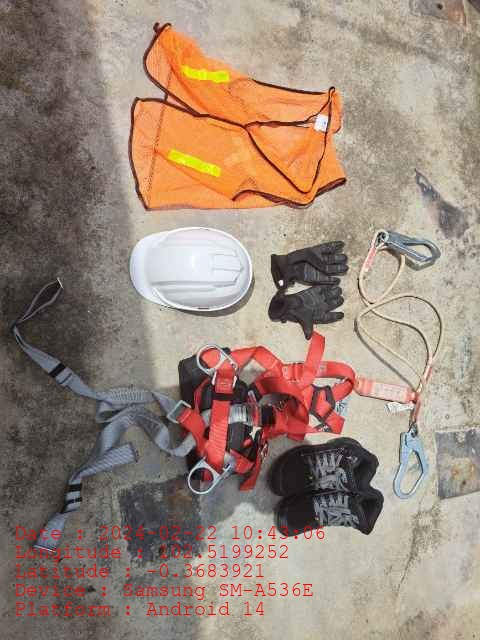HELM: (131, 226, 252, 312)
ROMPI: (133, 25, 345, 207)
SARUNG TANGAN: (269, 239, 348, 329)
SEPATU: (271, 443, 383, 531)
